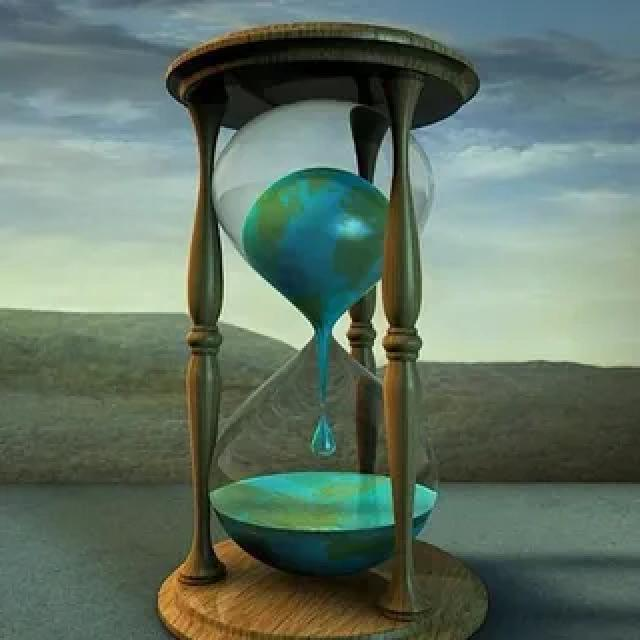clock: (150, 10, 504, 640)
